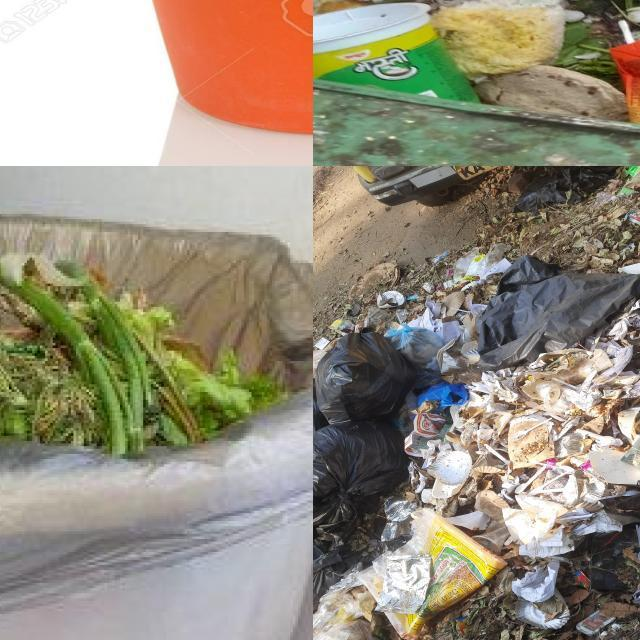Cig_pack: (577, 611, 615, 636)
Disposable: (521, 349, 614, 412), (507, 416, 556, 468), (507, 417, 556, 469), (516, 590, 570, 629), (442, 341, 481, 383), (427, 451, 472, 485), (451, 392, 486, 429), (472, 522, 511, 555), (474, 489, 509, 521), (575, 469, 605, 504), (514, 466, 547, 494), (575, 429, 622, 447), (554, 433, 582, 458), (442, 291, 465, 317), (474, 454, 505, 473), (460, 425, 479, 454), (378, 291, 406, 308), (551, 378, 582, 393), (615, 494, 640, 512), (542, 464, 575, 473), (619, 262, 640, 274), (446, 431, 462, 443), (636, 524, 640, 543)
Garbage: (313, 166, 640, 640), (0, 233, 304, 456), (313, 0, 640, 124)
Plastic_Bag: (476, 256, 640, 370), (383, 509, 508, 640), (313, 538, 430, 640), (313, 420, 409, 526), (315, 332, 414, 424), (385, 325, 469, 408), (514, 166, 621, 211), (376, 556, 432, 614), (589, 526, 638, 591), (313, 536, 348, 612), (423, 492, 428, 496)
Plastic_Container: (313, 2, 477, 101)
Plastic_wraper: (381, 500, 418, 542), (453, 248, 479, 281), (465, 255, 486, 275), (573, 572, 591, 590), (456, 616, 470, 636), (617, 188, 636, 197)
Thermocol: (588, 495, 619, 502), (621, 490, 640, 496)
